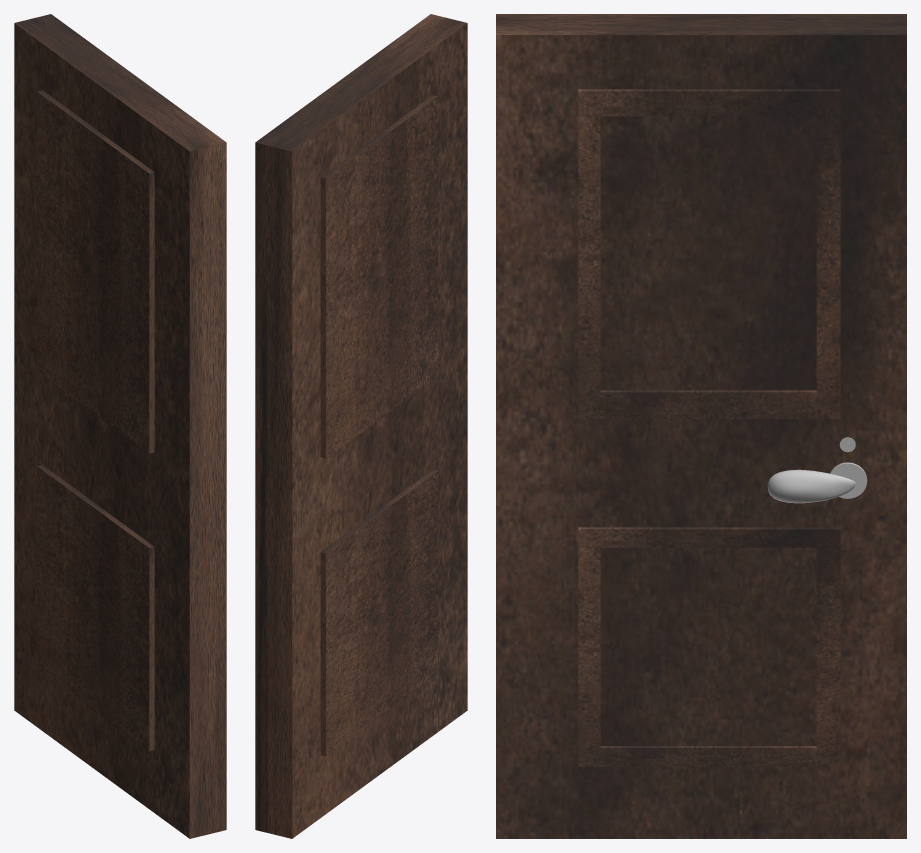
File: door.fbx
The picture shows the model from 3 angles, left to right: view 1: azimuth 30°, elevation 25°; view 2: azimuth 150°, elevation 25°; view 3: azimuth 270°, elevation 25°; orthographic projection. The views are drawn at different scales.
Parts seen in each view (by area): view 1: Cube.100, Cube.131, Cube.130; view 2: Cube.100, Cube.131, Cube.130; view 3: Cube.100, Cube.131, Cube.130, Sphere.
Part boxes in pixels (left/top/right/bottom): Cube.100: left=14, top=14, right=226, bottom=838; Cube.131: left=37, top=90, right=154, bottom=453; Cube.130: left=37, top=465, right=154, bottom=751; Cube.100: left=255, top=14, right=467, bottom=838; Cube.131: left=320, top=95, right=437, bottom=458; Cube.130: left=320, top=470, right=437, bottom=756; Cube.100: left=496, top=14, right=906, bottom=838; Cube.131: left=578, top=89, right=840, bottom=418; Cube.130: left=578, top=527, right=840, bottom=766; Sphere: left=767, top=469, right=855, bottom=503.
Bounding box in the file's own units: 67.52 × 676 × 313.
